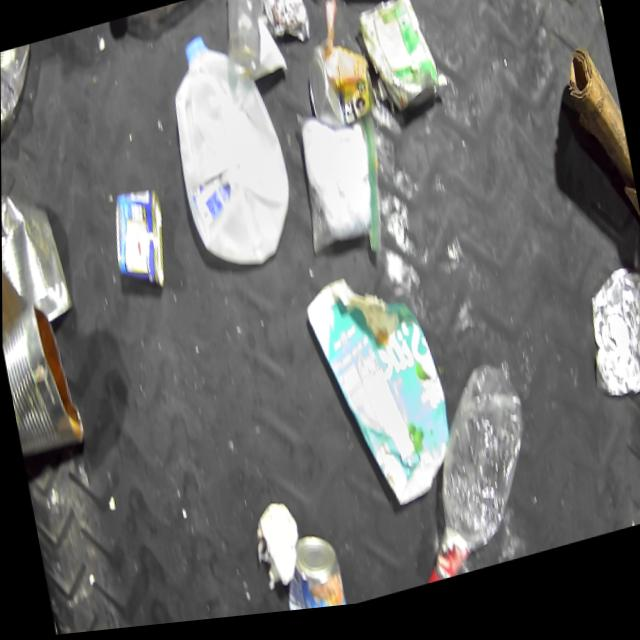can: (2, 291, 87, 466), (1, 176, 76, 337), (354, 0, 444, 133), (573, 272, 640, 419), (299, 36, 378, 143), (103, 185, 173, 301), (274, 531, 347, 618)
milk_jug: (157, 22, 301, 290)
plastic_bottle: (388, 357, 550, 595), (0, 41, 53, 156), (111, 0, 234, 38)
